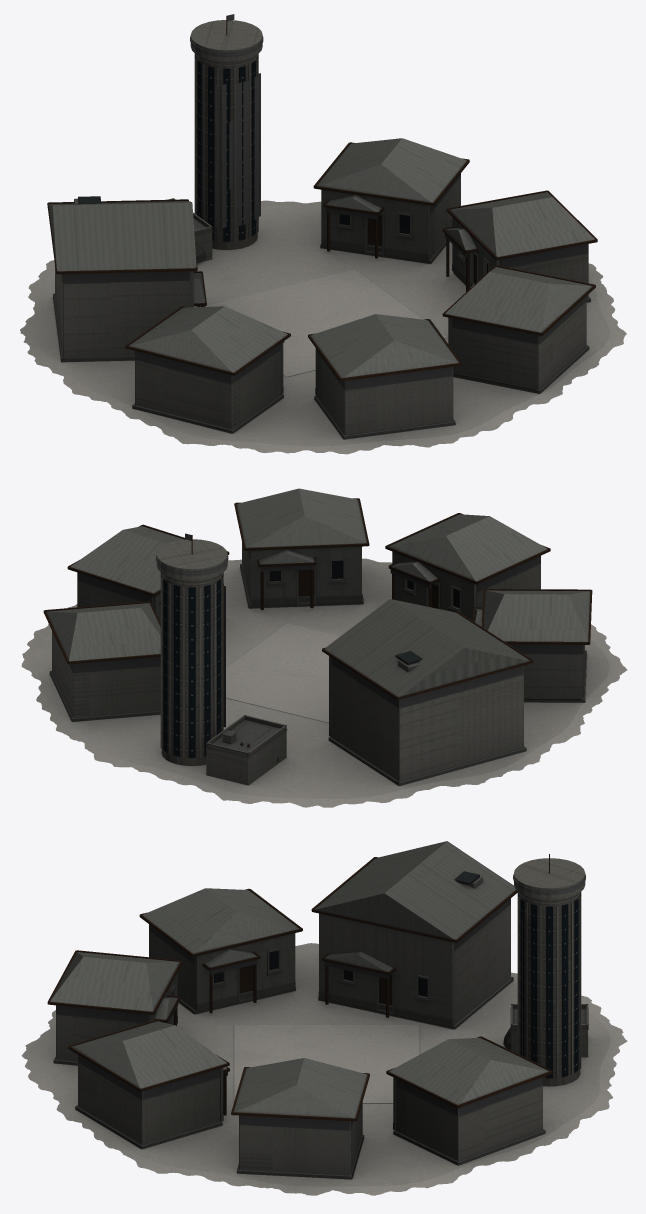
Rendered from modern-town-small-a-eastafrica.glb.
3 renders of one model, top to bottom at view 1: azimuth 30°, elevation 25°; view 2: azimuth 150°, elevation 25°; view 3: azimuth 270°, elevation 25°, orthographic.
Parts seen in each view (by area): view 1: LOD0; view 2: LOD0; view 3: LOD0.
Boxes of the visible parts, x1,y1,x2,y2 form: LOD0: [20, 14, 626, 454]; LOD0: [21, 488, 627, 807]; LOD0: [21, 841, 627, 1195].
Size of what is drawn, in the model's own units: 3.94 by 1.6 by 4.01.
3 materials, 3 textured.
